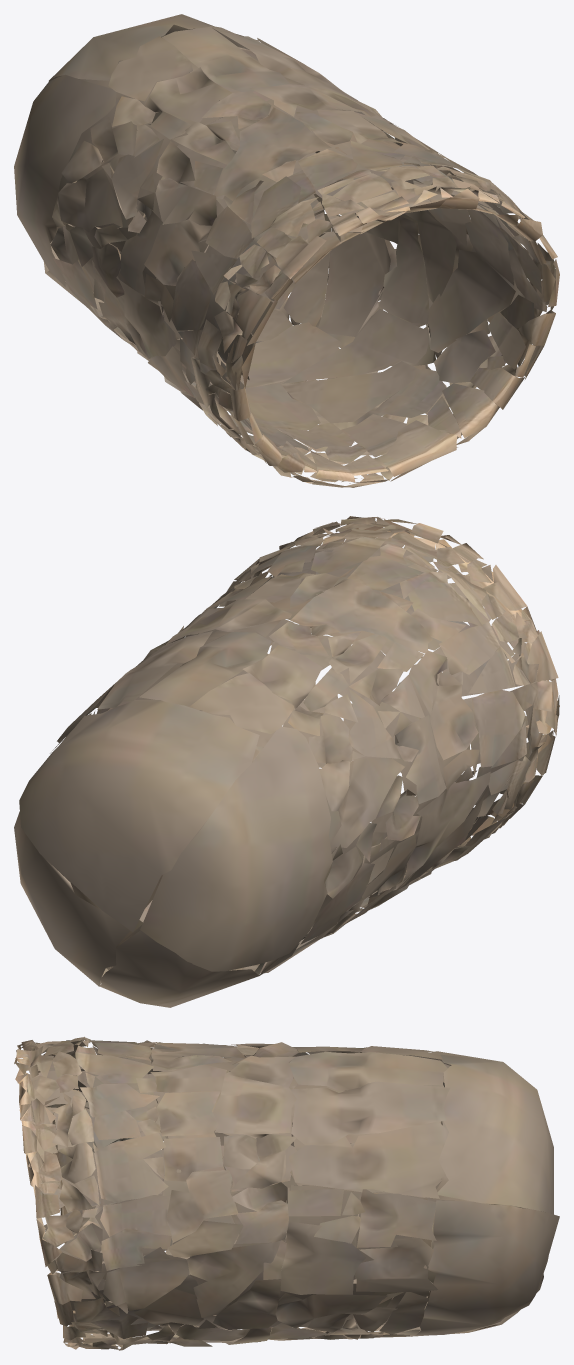
The model's file is thimble.glb.
3 renders of one model, top to bottom at view 1: azimuth 30°, elevation 25°; view 2: azimuth 150°, elevation 25°; view 3: azimuth 270°, elevation 25°, orthographic. The views are drawn at different scales.
Visible parts, largest first — view 1: thimble; view 2: thimble; view 3: thimble.
Boxes of the visible parts, x1=… form: thimble: x1=14, y1=14, x2=559, y2=487; thimble: x1=14, y1=516, x2=559, y2=1007; thimble: x1=14, y1=1036, x2=559, y2=1350.
Size of the model in its own units: 0.019 by 0.0171 by 0.0303.
Materials: 1 (1 with a texture image).
